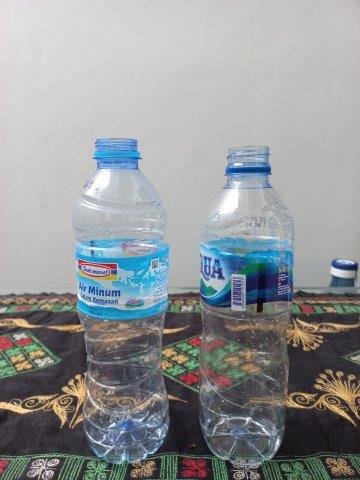botolplastik: (71, 137, 170, 464), (201, 146, 296, 465)
